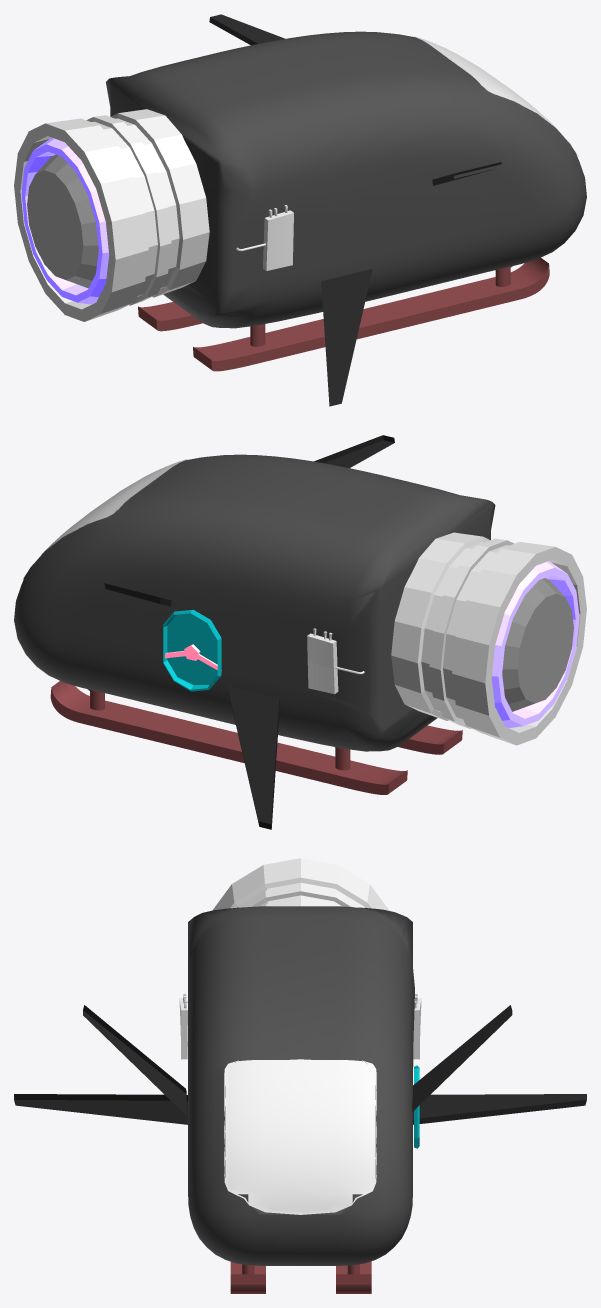
The model's file is Mouse.glb.
3 views of the same model, one above another, from view 1: azimuth 30°, elevation 25°; view 2: azimuth 150°, elevation 25°; view 3: azimuth 270°, elevation 25° (orthographic). The views are drawn at different scales.
Visible parts, largest first — view 1: Body, EngineRing.001, LandingGear, CombustionLimiter, Stabilizers.002, JetEngine, ElectricalBox2, Windshield, Stabilizers; view 2: Body, EngineRing.001, LandingGear, CombustionLimiter, Stabilizers.001, JetEngine, Door, ElectricalBox, Windshield, Stabilizers.003, DoorFrame; view 3: Body, Windshield, EngineRing.001, Stabilizers.002, Stabilizers.001, LandingGear, Stabilizers.003, Stabilizers.
Part boxes in pixels (left/top/right/bottom): Body: left=106, top=31, right=586, bottom=328; EngineRing.001: left=14, top=109, right=209, bottom=321; LandingGear: left=138, top=257, right=549, bottom=371; CombustionLimiter: left=27, top=154, right=98, bottom=288; Stabilizers.002: left=321, top=269, right=372, bottom=406; JetEngine: left=21, top=137, right=109, bottom=304; ElectricalBox2: left=236, top=205, right=293, bottom=270; Windshield: left=413, top=36, right=578, bottom=156; Stabilizers: left=209, top=14, right=285, bottom=45; Body: left=14, top=454, right=495, bottom=751; EngineRing.001: left=391, top=532, right=586, bottom=745; LandingGear: left=50, top=681, right=462, bottom=794; CombustionLimiter: left=502, top=578, right=573, bottom=711; Stabilizers.001: left=227, top=685, right=279, bottom=829; JetEngine: left=491, top=561, right=579, bottom=727; Door: left=165, top=613, right=221, bottom=684; ElectricalBox: left=307, top=628, right=364, bottom=694; Windshield: left=23, top=459, right=187, bottom=579; Stabilizers.003: left=314, top=435, right=394, bottom=467; DoorFrame: left=163, top=610, right=221, bottom=691; Body: left=188, top=906, right=414, bottom=1265; Windshield: left=224, top=1059, right=376, bottom=1214; EngineRing.001: left=212, top=858, right=389, bottom=910; Stabilizers.002: left=14, top=1094, right=187, bottom=1124; Stabilizers.001: left=413, top=1094, right=586, bottom=1124; LandingGear: left=230, top=1261, right=371, bottom=1293; Stabilizers.003: left=83, top=1005, right=186, bottom=1115; Stabilizers: left=412, top=1005, right=512, bottom=1111.
Bounding box in the file's own units: 11.19 × 5.43 × 11.63.
